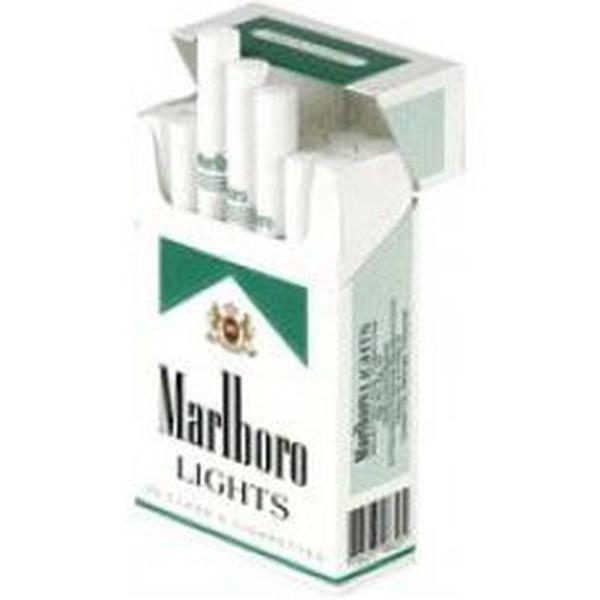marlboro_mentol: (137, 166, 340, 511)
